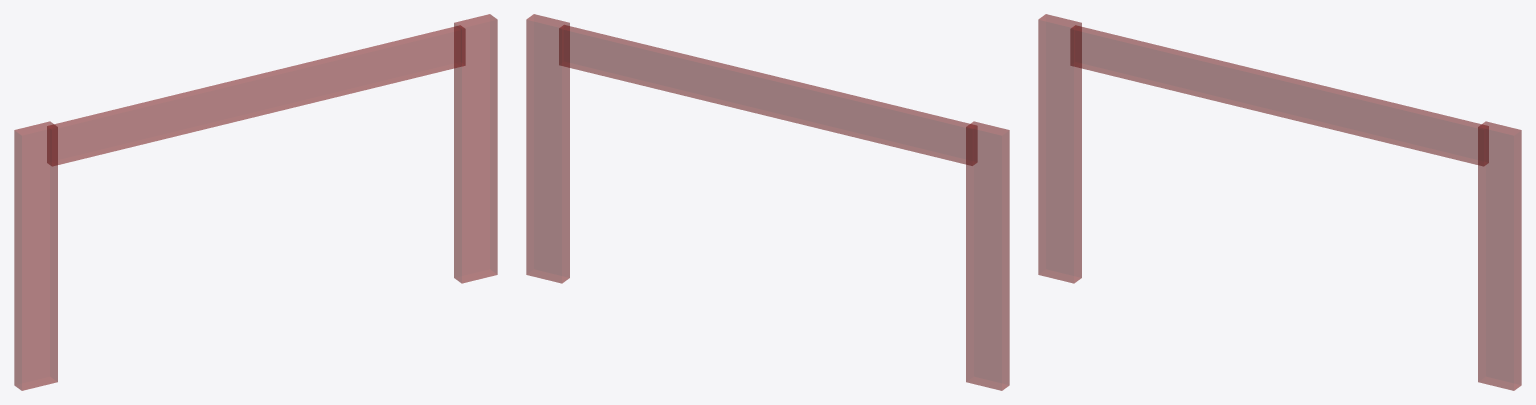
Rendered from SM_Prop_Gantry_02_Collision.fbx.
The picture shows the model from 3 angles, left to right: view 1: azimuth 30°, elevation 25°; view 2: azimuth 150°, elevation 25°; view 3: azimuth 330°, elevation 25°; orthographic projection.
Visible parts, largest first — view 1: SM_Prop_Gantry_02_Collision; view 2: SM_Prop_Gantry_02_Collision; view 3: SM_Prop_Gantry_02_Collision.
Part boxes in pixels (x1,y1,x2,y2): SM_Prop_Gantry_02_Collision: [14, 14, 497, 390]; SM_Prop_Gantry_02_Collision: [526, 14, 1009, 390]; SM_Prop_Gantry_02_Collision: [1038, 14, 1521, 390].
Size of the model in its own units: 1378 by 706 by 38.75.
